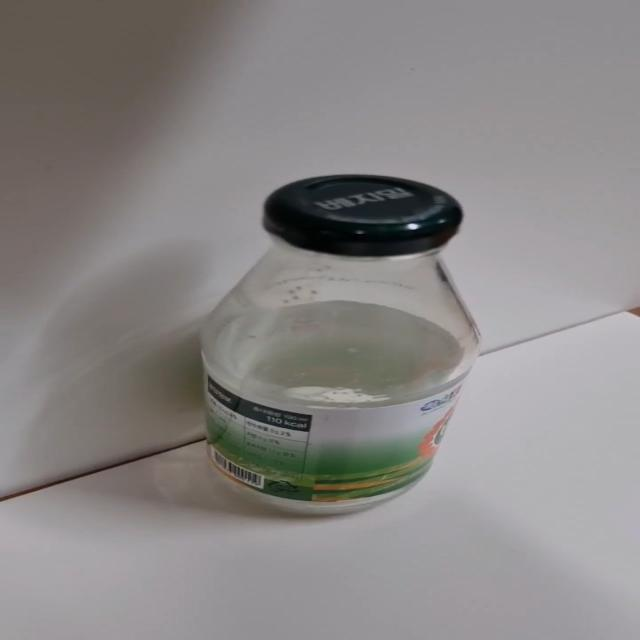Glass: (198, 174, 481, 519)
